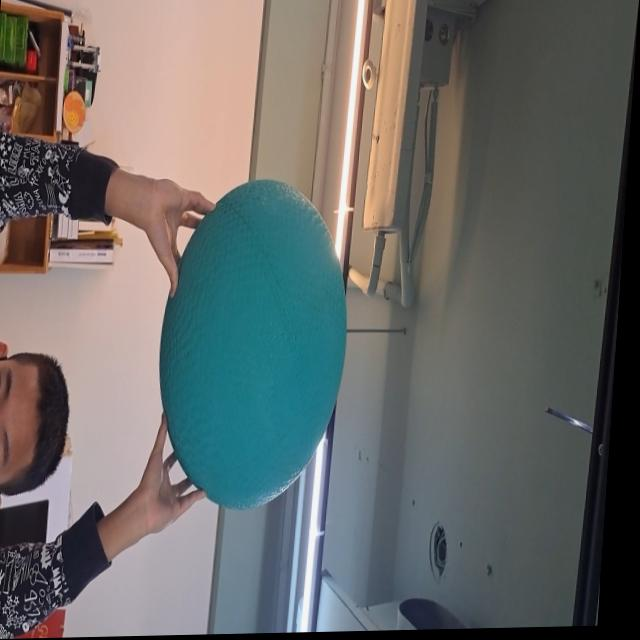ALGAE: (147, 177, 357, 514)
